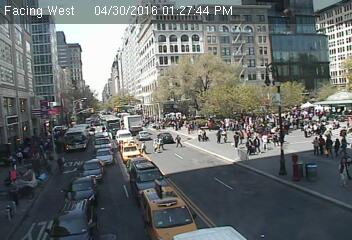neg: (284, 154, 305, 181), (302, 165, 321, 190), (238, 158, 256, 181)
pos: (170, 131, 184, 149), (137, 140, 148, 155)
